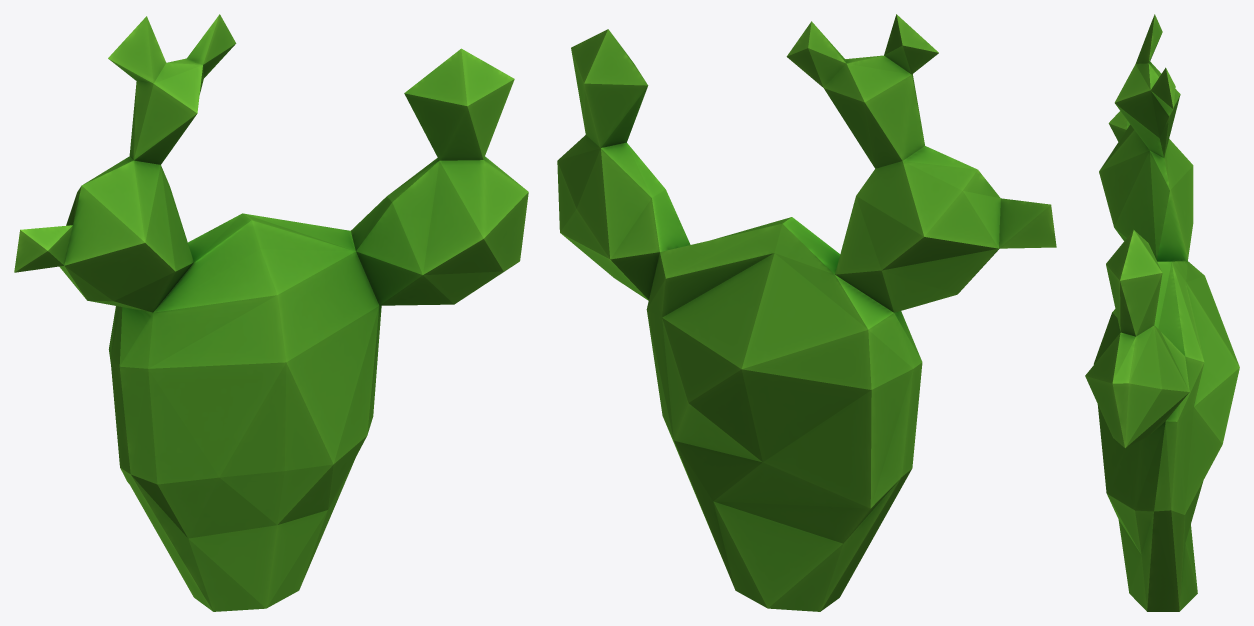
The model's file is Cactus_0.fbx.
3 renders of one model, left to right at view 1: azimuth 30°, elevation 25°; view 2: azimuth 150°, elevation 25°; view 3: azimuth 270°, elevation 25°, orthographic. The views are drawn at different scales.
Visible parts, largest first — view 1: Cactus_0; view 2: Cactus_0; view 3: Cactus_0.
Boxes of the visible parts, x1,y1,x2,y2 form: Cactus_0: (14, 14, 528, 611); Cactus_0: (557, 14, 1056, 611); Cactus_0: (1085, 14, 1239, 611).
Size of the model in its own units: 45.03 by 51.77 by 13.6.
